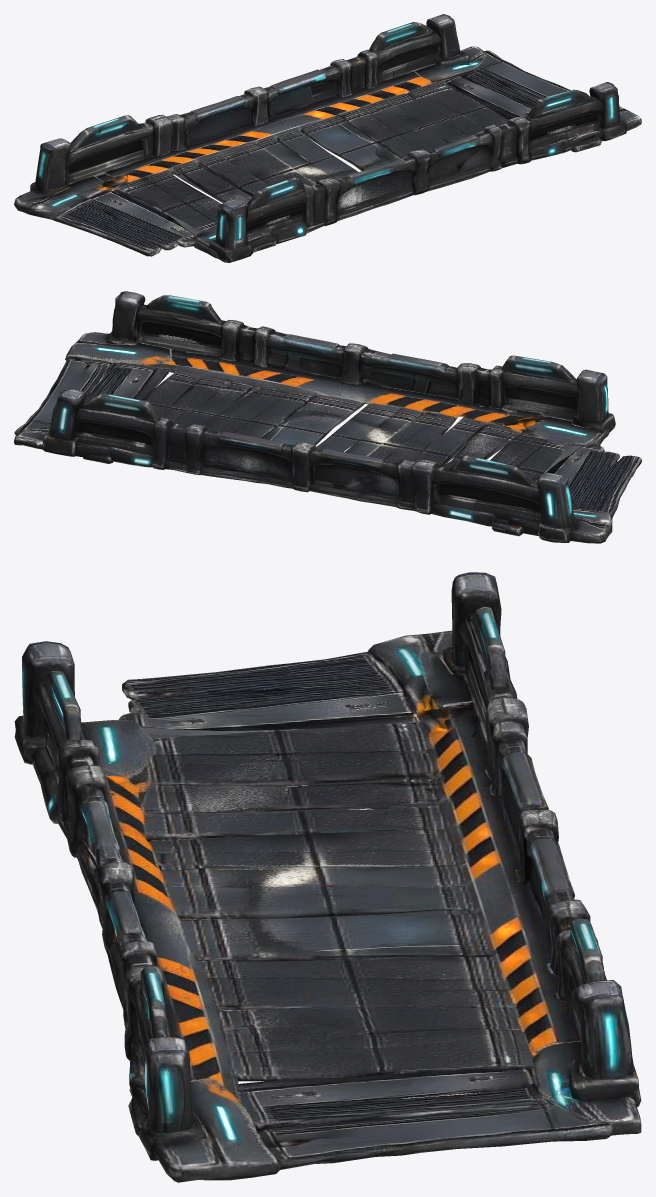
The model's file is bridge-ramp-v2.glb.
3 views of the same model, one above another, from view 1: azimuth 30°, elevation 25°; view 2: azimuth 150°, elevation 25°; view 3: azimuth 270°, elevation 25° (orthographic). The views are drawn at different scales.
Parts seen in each view (by area): view 1: Mesh_0; view 2: Mesh_0; view 3: Mesh_0.
Part boxes in pixels (<box>): Mesh_0: <box>14,14,641,262</box>; Mesh_0: <box>14,291,641,543</box>; Mesh_0: <box>14,572,641,1182</box>.
Size of the model in its own units: 9.64 by 1 by 4.72.
Materials: 1 (1 with a texture image).
